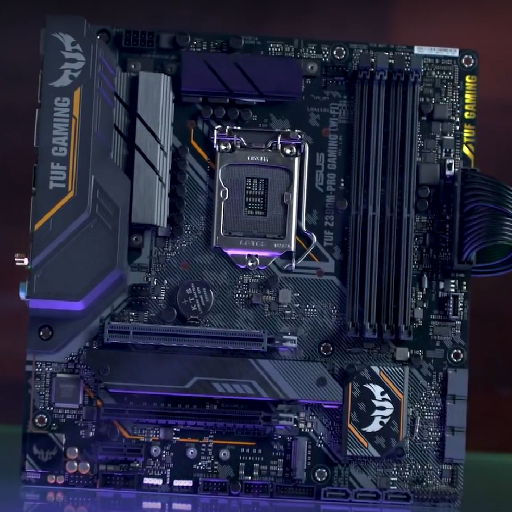CPU: (209, 124, 299, 269)
GPU: (101, 318, 299, 356), (98, 400, 300, 435)
MOTHERBOARD: (24, 19, 481, 507)
RAM: (342, 53, 423, 342)
SSD: (284, 436, 311, 481)
